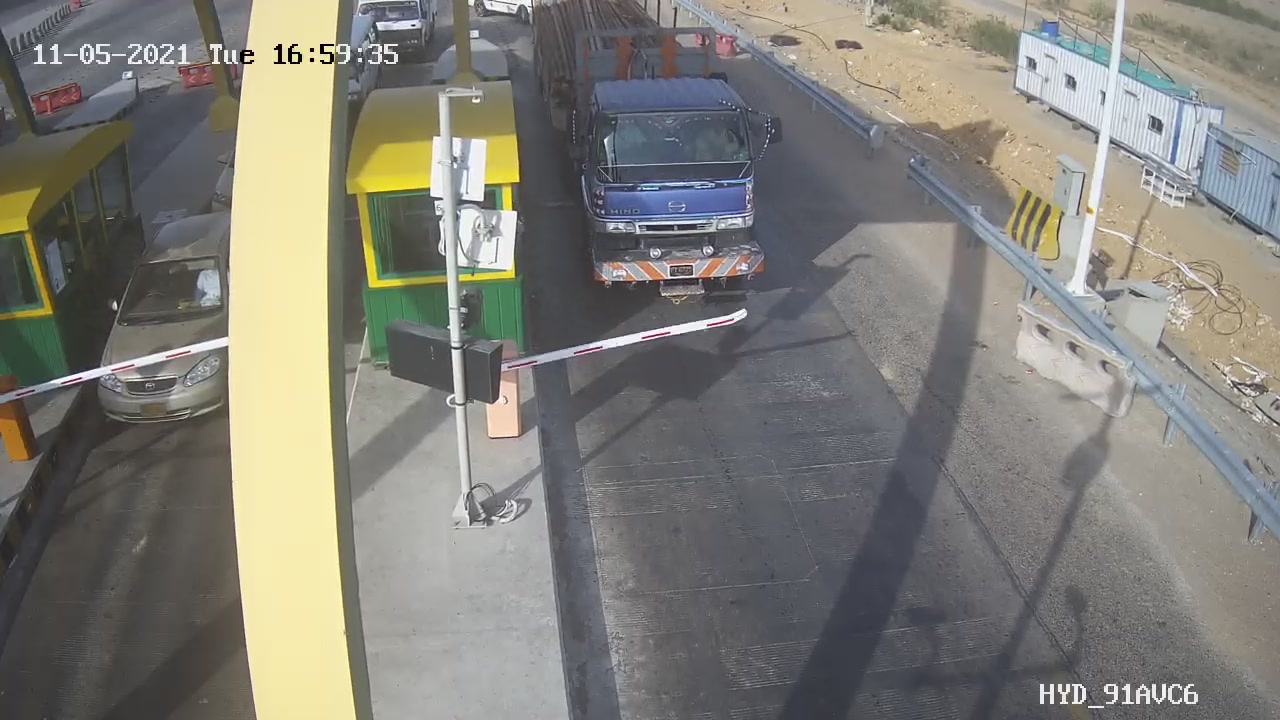F6: (524, 1, 809, 317)
